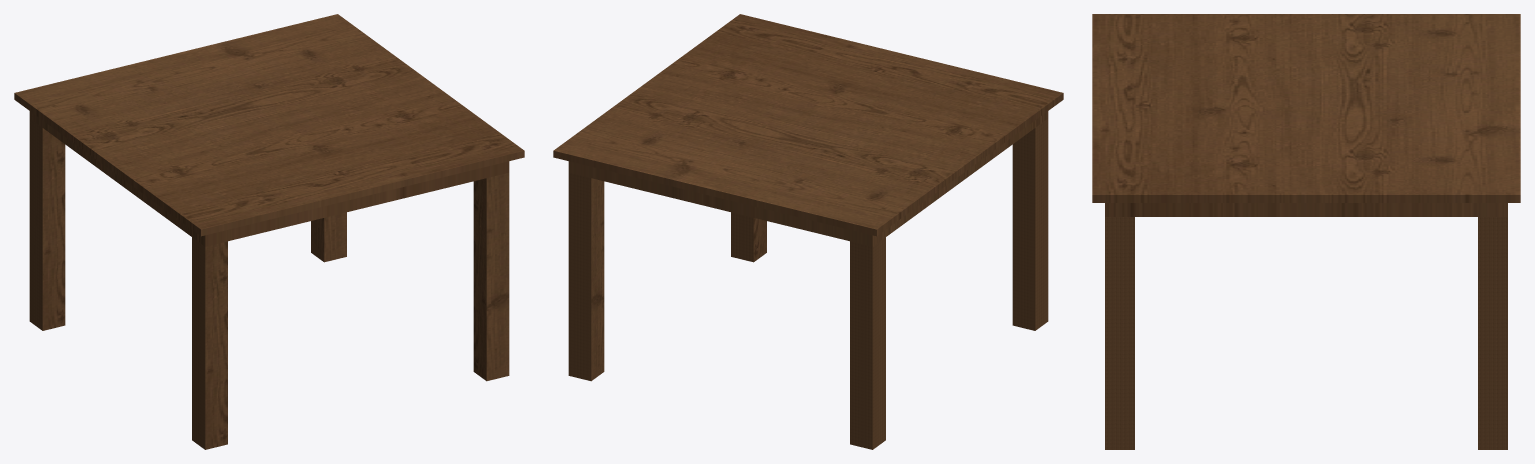
File: table.FBX
3 renders of one model, left to right at view 1: azimuth 30°, elevation 25°; view 2: azimuth 150°, elevation 25°; view 3: azimuth 270°, elevation 25°, orthographic. The views are drawn at different scales.
Visible parts, largest first — view 1: Box001; view 2: Box001; view 3: Box001.
Boxes of the visible parts, <box> form: Box001: <box>14,14,524,449</box>; Box001: <box>553,14,1063,449</box>; Box001: <box>1092,14,1520,449</box>.
Bounding box in the file's own units: 100 × 67 × 100.
1 material, 1 textured.
